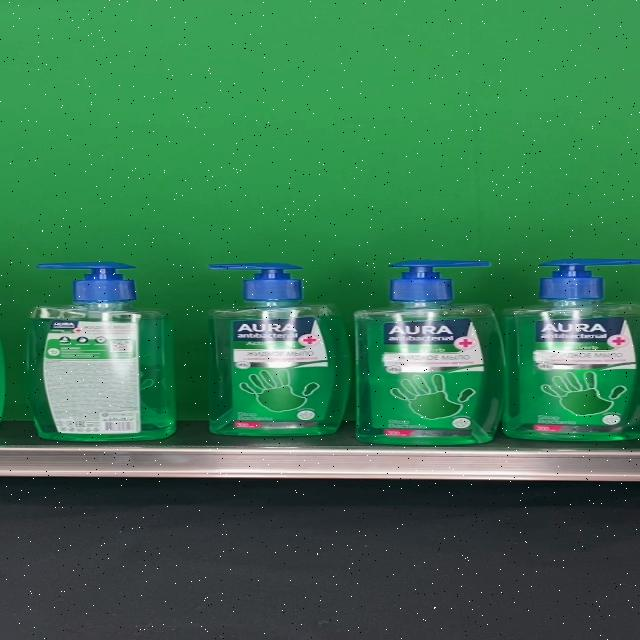Bottle: (20, 262, 177, 442), (354, 260, 505, 445), (503, 256, 640, 440), (208, 263, 352, 437)
Cap: (538, 257, 640, 300), (390, 260, 492, 302), (36, 262, 136, 302), (207, 262, 302, 300)
